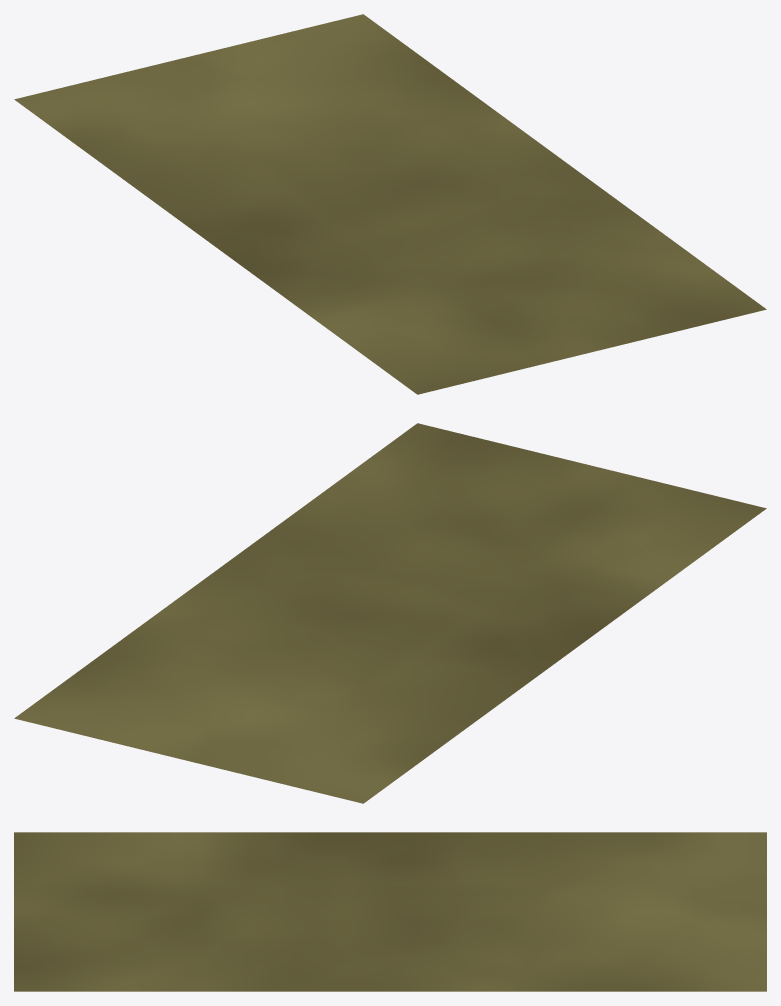
Rendered from terrain_lod0_7_3.obj.
3 views of the same model, one above another, from view 1: azimuth 30°, elevation 25°; view 2: azimuth 150°, elevation 25°; view 3: azimuth 270°, elevation 25° (orthographic). The views are drawn at different scales.
Visible parts, largest first — view 1: terrain_lod0_7_3; view 2: terrain_lod0_7_3; view 3: terrain_lod0_7_3.
Boxes of the visible parts, bbox=[...] form: terrain_lod0_7_3: bbox=[14, 14, 766, 394]; terrain_lod0_7_3: bbox=[14, 423, 766, 803]; terrain_lod0_7_3: bbox=[14, 832, 766, 991].
Size of the model in its own units: 64 by 0 by 128.
